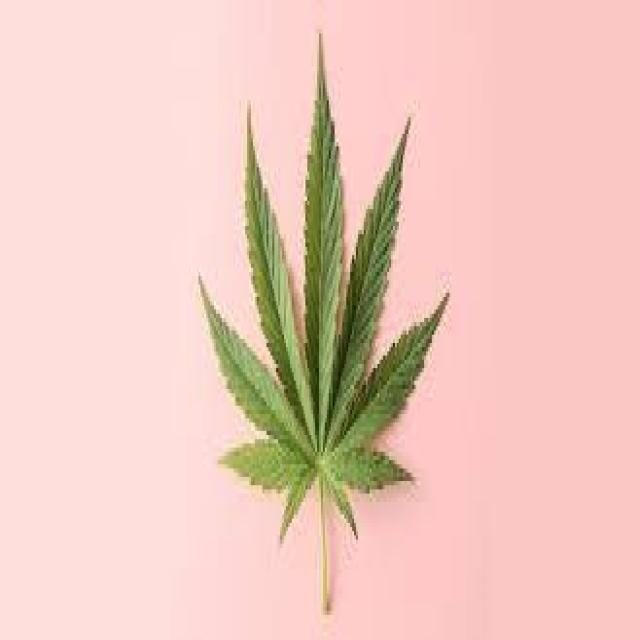cannabis: (198, 30, 449, 620)
